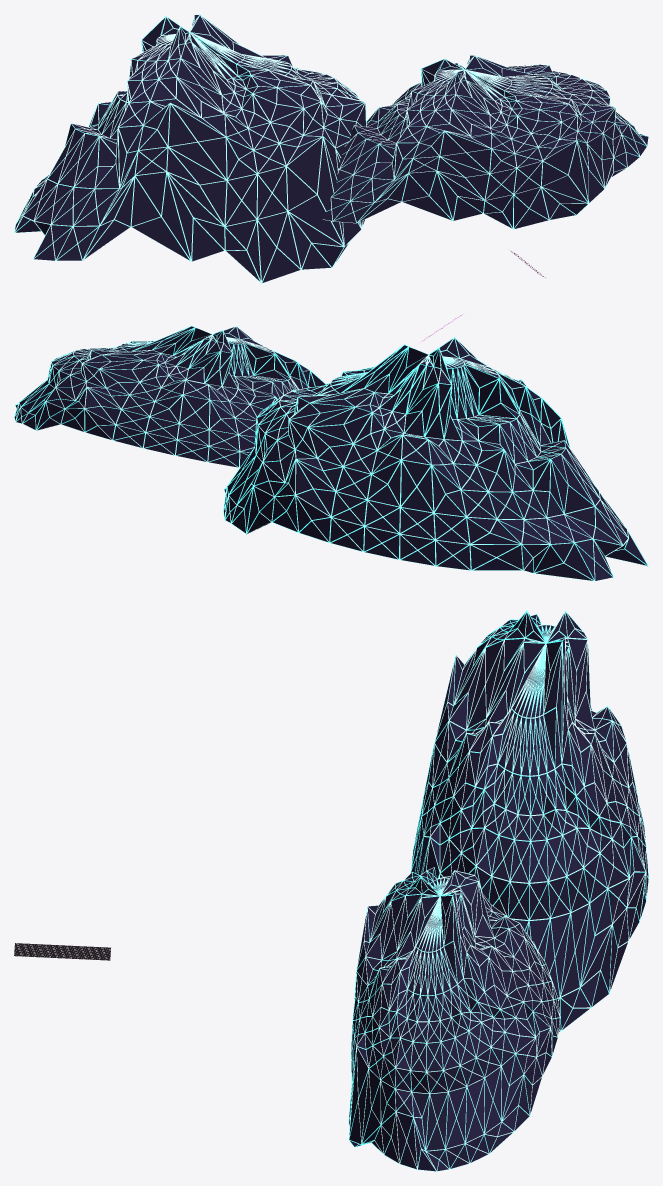
Rendered from background.glb.
The picture shows the model from 3 angles, top to bottom: view 1: azimuth 30°, elevation 25°; view 2: azimuth 150°, elevation 25°; view 3: azimuth 270°, elevation 25°; orthographic projection. The views are drawn at different scales.
Visible parts, largest first — view 1: mountain001, mountain; view 2: mountain001, mountain; view 3: mountain001, mountain, Plane.
Part boxes in pixels (bbox=[...]): mountain001: bbox=[14, 14, 366, 283]; mountain: bbox=[323, 55, 648, 229]; mountain001: bbox=[223, 337, 648, 581]; mountain: bbox=[14, 326, 325, 467]; mountain001: bbox=[410, 610, 648, 1032]; mountain: bbox=[348, 867, 560, 1171]; Plane: bbox=[14, 943, 111, 960].
Bounding box in the file's own units: 8252 × 3093 × 5473.
